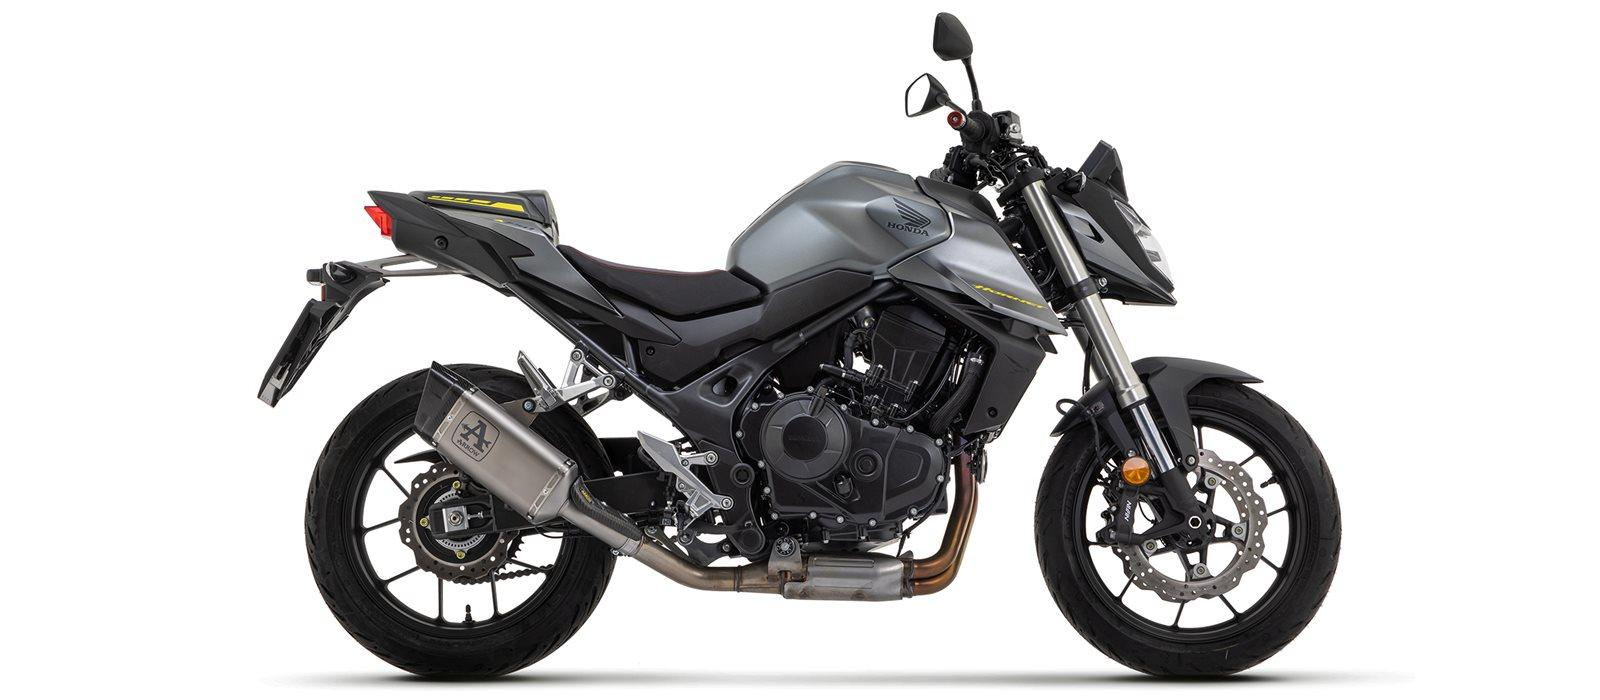engine-chasis: (636, 289, 1000, 566)
exhaust: (413, 359, 979, 600)
frontside: (996, 166, 1263, 544), (888, 176, 1067, 436)
handlebar: (905, 12, 1062, 193), (1078, 140, 1129, 202)
motorbike: (252, 13, 1337, 680)
rearside: (257, 190, 898, 455), (584, 438, 687, 537), (429, 494, 568, 539)
seat: (556, 244, 761, 316), (407, 189, 558, 228)
tank: (726, 160, 952, 295)
wheel: (304, 367, 618, 679), (1034, 378, 1342, 678), (531, 402, 614, 480), (1055, 398, 1111, 476), (444, 363, 535, 403), (1082, 335, 1093, 396)
